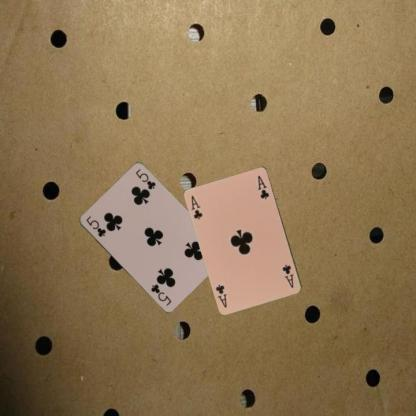5c: (83, 213, 107, 238)
Ac: (189, 193, 204, 221), (280, 262, 294, 289)
